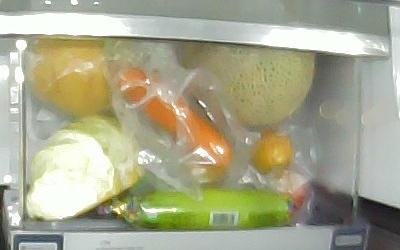carrot_vinyl: (26, 116, 145, 222), (119, 65, 232, 171)
melon_vinyl: (184, 42, 315, 124)
pear_vinyl: (31, 36, 106, 117)
tomato_vinyl: (252, 133, 296, 176), (285, 181, 307, 210)
zucchini: (100, 189, 294, 228)
